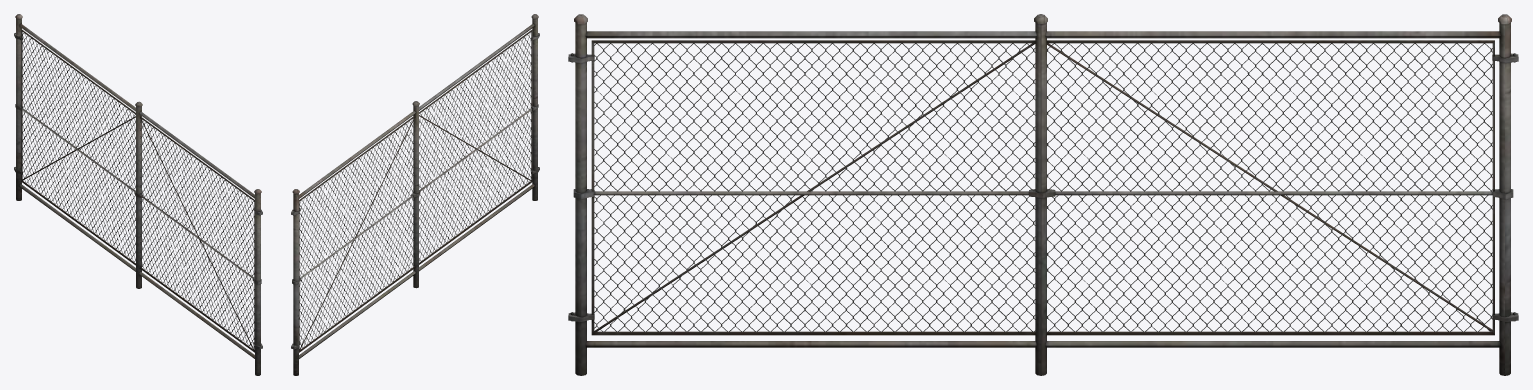
File: fence03a.glb
The picture shows the model from 3 angles, left to right: view 1: azimuth 30°, elevation 25°; view 2: azimuth 150°, elevation 25°; view 3: azimuth 270°, elevation 25°; orthographic projection. The views are drawn at different scales.
Visible parts, largest first — view 1: 1_fence_alpha, 0_fence_composite01; view 2: 1_fence_alpha, 0_fence_composite01; view 3: 1_fence_alpha, 0_fence_composite01.
Boxes of the visible parts, x1,y1,x2,y2 form: 1_fence_alpha: (22,33,254,348); 0_fence_composite01: (14,14,262,375); 1_fence_alpha: (299,32,531,347); 0_fence_composite01: (291,14,539,375); 1_fence_alpha: (594,43,1492,331); 0_fence_composite01: (568,14,1518,375).
Bounding box in the file's own units: 0.1126 × 2.76 × 6.63.
Materials: 2 (2 with a texture image).
